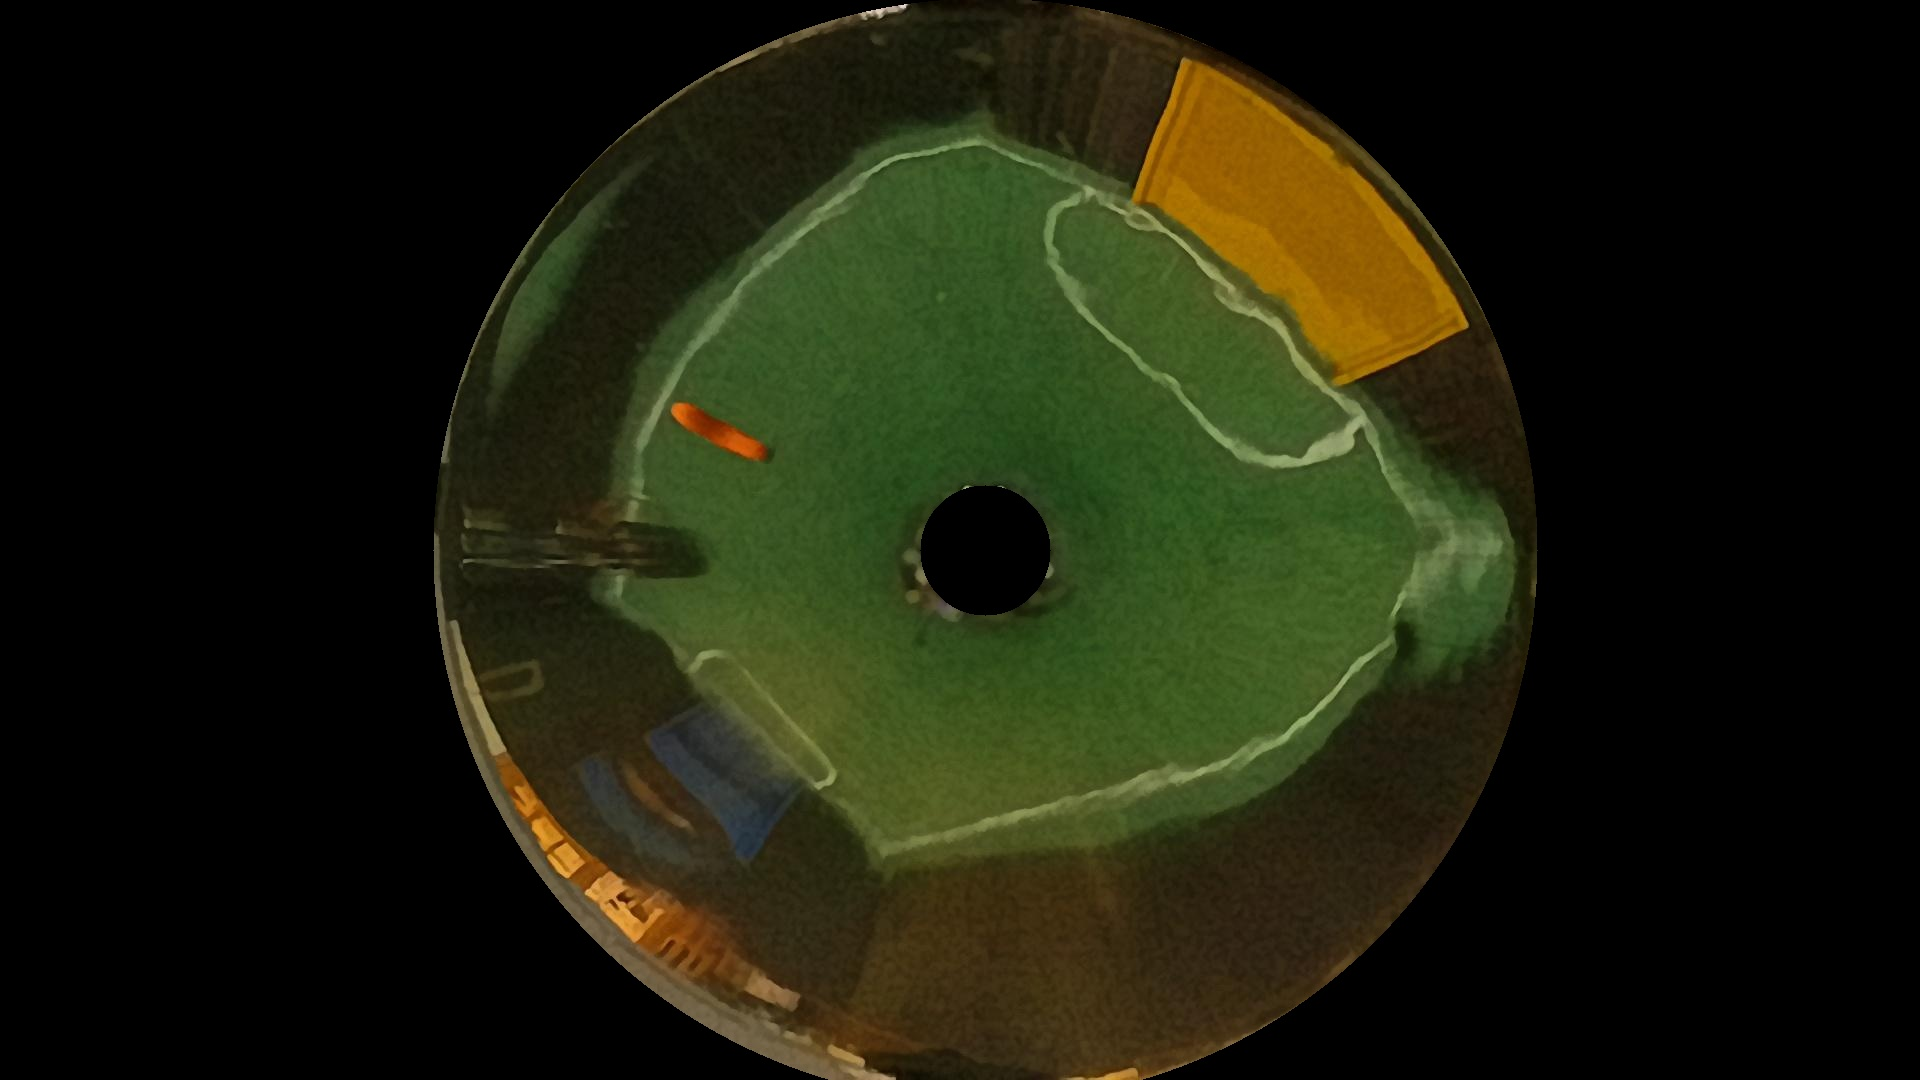ball: (658, 388, 767, 476)
blue-goal: (588, 716, 814, 874)
robots: (444, 491, 713, 592)
yellow-goal: (1154, 50, 1474, 410)
